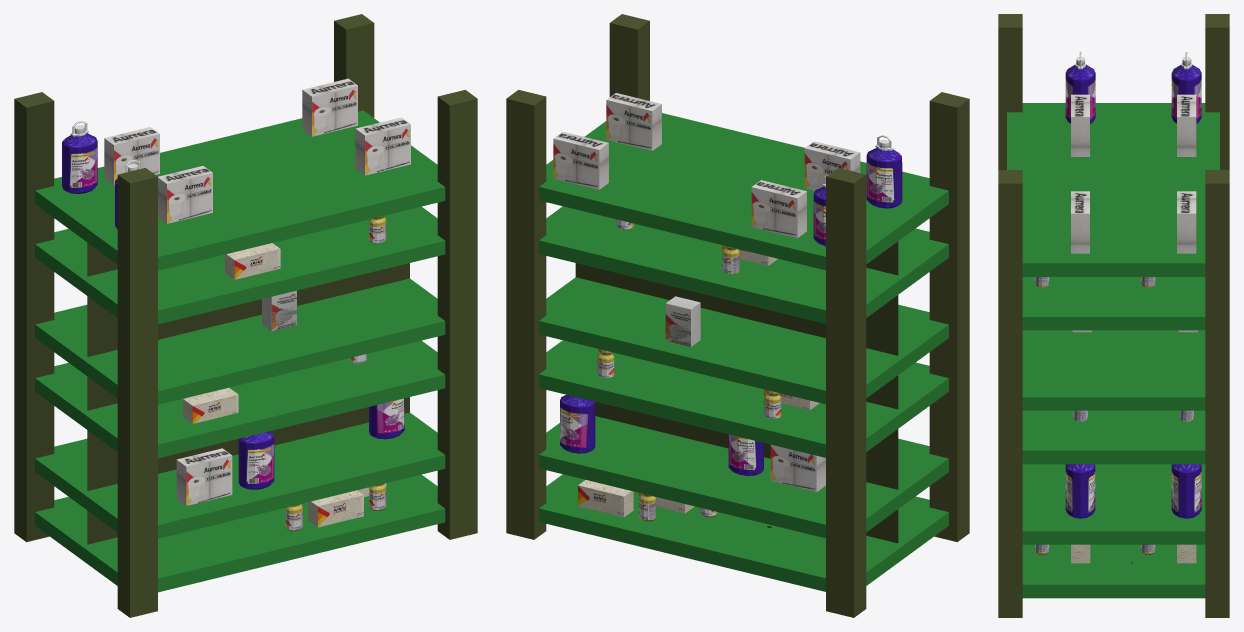
File: almacen_medio.fbx
The picture shows the model from 3 angles, left to right: view 1: azimuth 30°, elevation 25°; view 2: azimuth 150°, elevation 25°; view 3: azimuth 270°, elevation 25°; orthographic projection.
Parts seen in each view (by area): view 1: almacen medio; view 2: almacen medio; view 3: almacen medio.
Boxes of the visible parts, x1=… form: almacen medio: x1=14, y1=14, x2=477, y2=617; almacen medio: x1=506, y1=14, x2=969, y2=617; almacen medio: x1=998, y1=14, x2=1229, y2=617.
Bounding box in the file's own units: 224 × 267 × 129.
